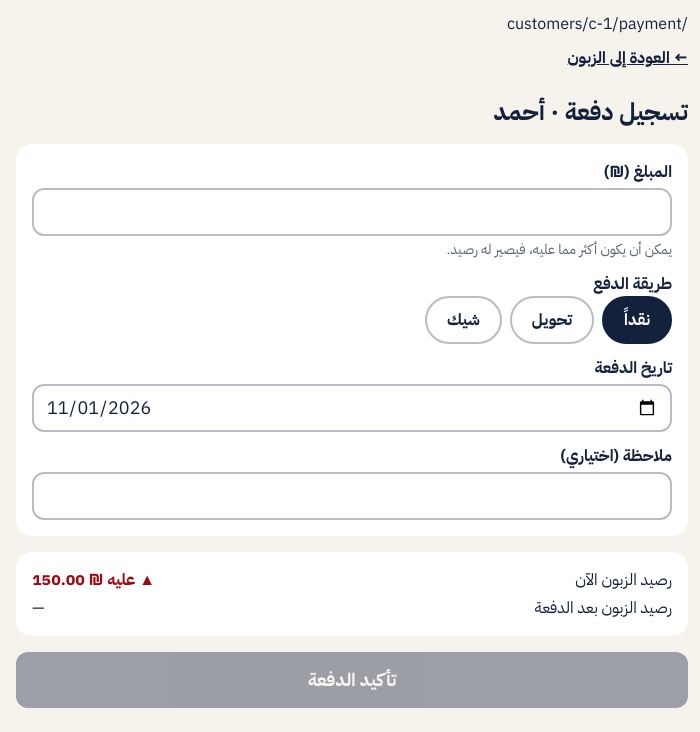
Test: payment screen › refuses zero, a bad amount, a cheque with no details and a future day
The image size is (700, 732).
Type "0" into the field labelled "المبلغ (₪)".
click(352, 212); type("0")  # box top-left (32, 188), bottom-right (672, 236)
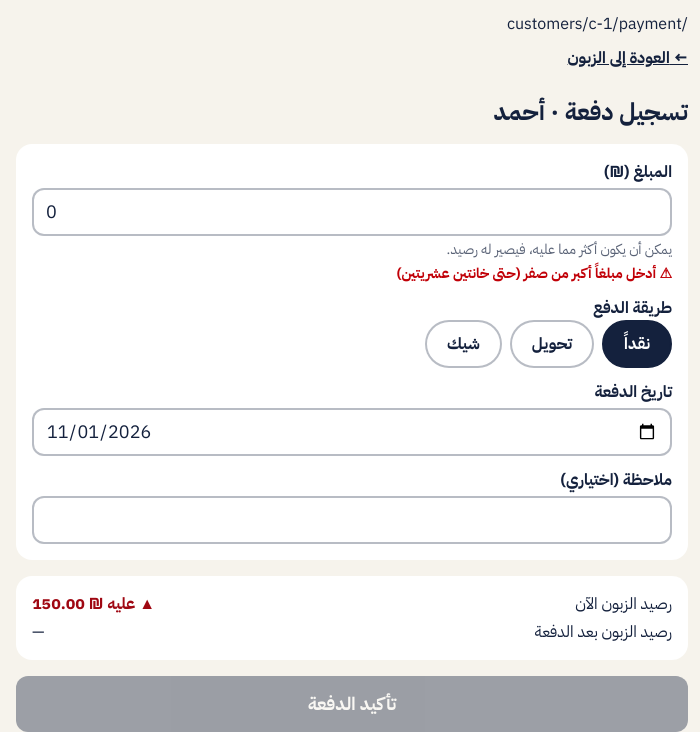
Expected: the button "تأكيد الدفعة" is disabled, top-left (16, 676), bottom-right (688, 731)
Replace the text in the field labelled "المبلغ (₪)" with "abc" at (352,212), box top-left (32, 188), bottom-right (672, 236)
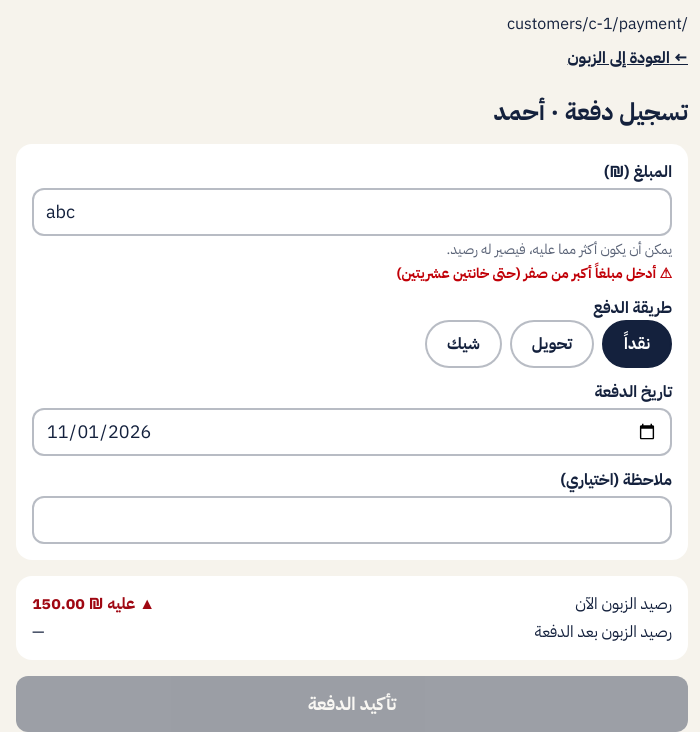
Now the text "أدخل مبلغاً أكبر من صفر (حتى خانتين عشريتين)" is shown, box top-left (397, 263), bottom-right (656, 284)
Replace the text in the field labelled "المبلغ (₪)" with "10" at (352,212), box top-left (32, 188), bottom-right (672, 236)
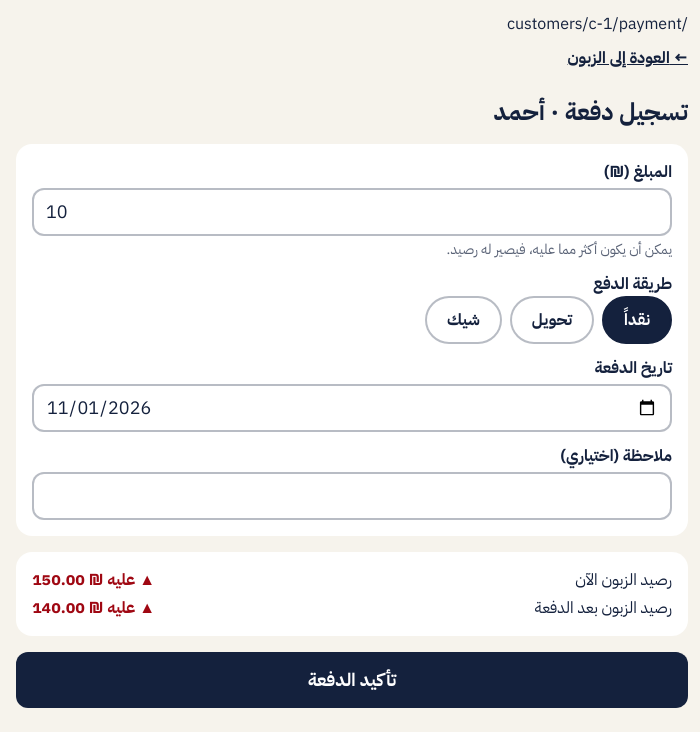
Now the button "تأكيد الدفعة" is enabled, box top-left (16, 652), bottom-right (688, 708)
Click the button "شيك".
click(464, 320)  # box top-left (425, 296), bottom-right (502, 344)
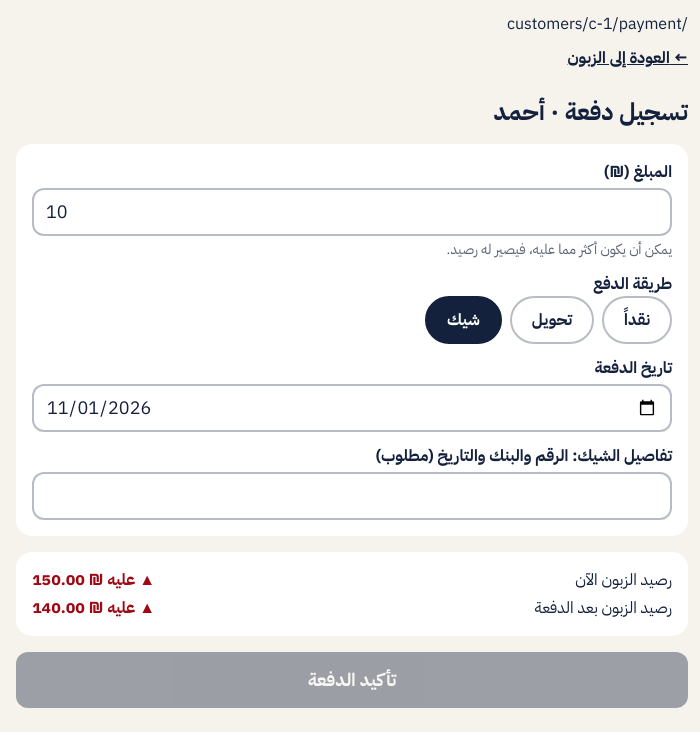
Now the button "تأكيد الدفعة" is disabled, box top-left (16, 652), bottom-right (688, 708)
Type "شيك 55" into the field labelled "تفاصيل الشيك: الرقم والبنك والتاريخ (مطلوب)".
click(352, 496); type("شيك 55")  # box top-left (32, 472), bottom-right (672, 520)
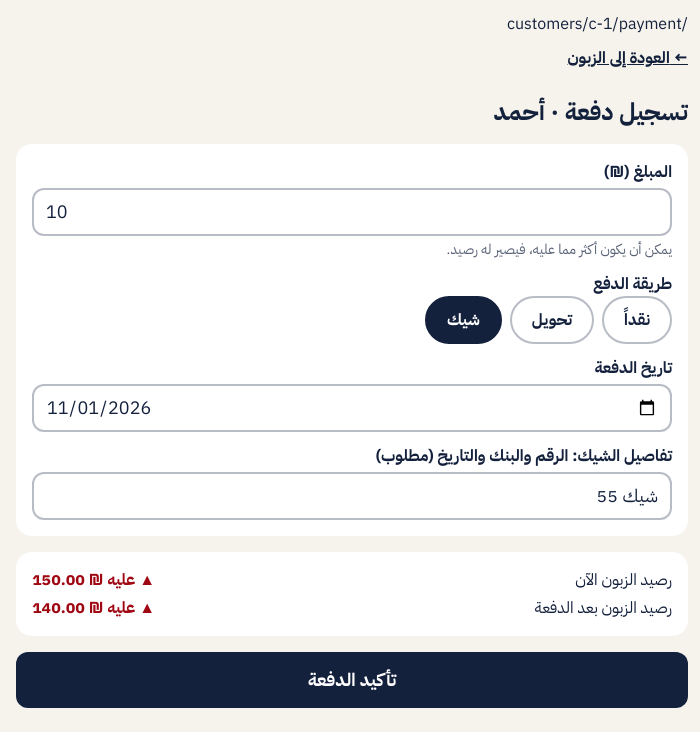
Now the button "تأكيد الدفعة" is enabled, box top-left (16, 652), bottom-right (688, 708)
Type "2999-01-01" into the date field labelled "تاريخ الدفعة".
click(352, 408); type("2999-01-01")  # box top-left (32, 384), bottom-right (672, 432)
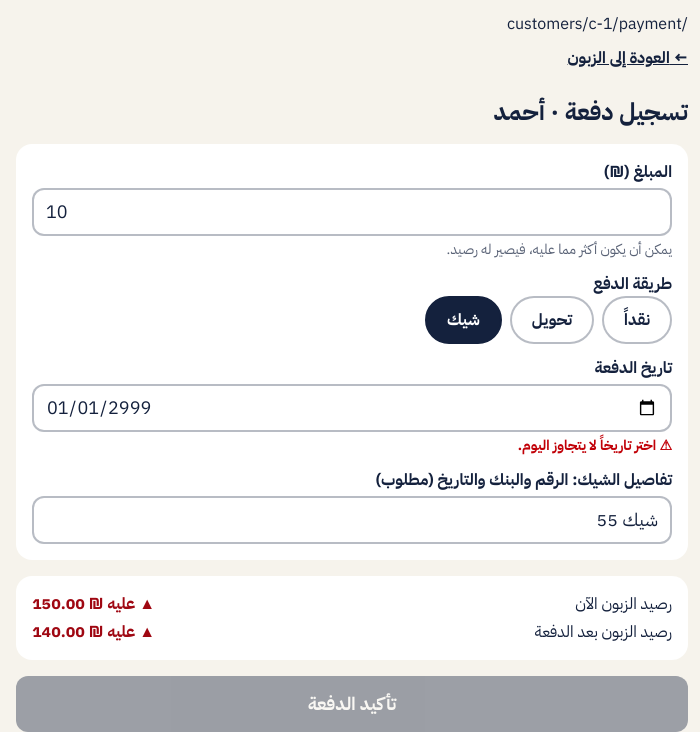
Now the button "تأكيد الدفعة" is disabled, box top-left (16, 676), bottom-right (688, 731)
Now the text "اختر تاريخاً لا يتجاوز اليوم." is shown, box top-left (518, 435), bottom-right (656, 456)
